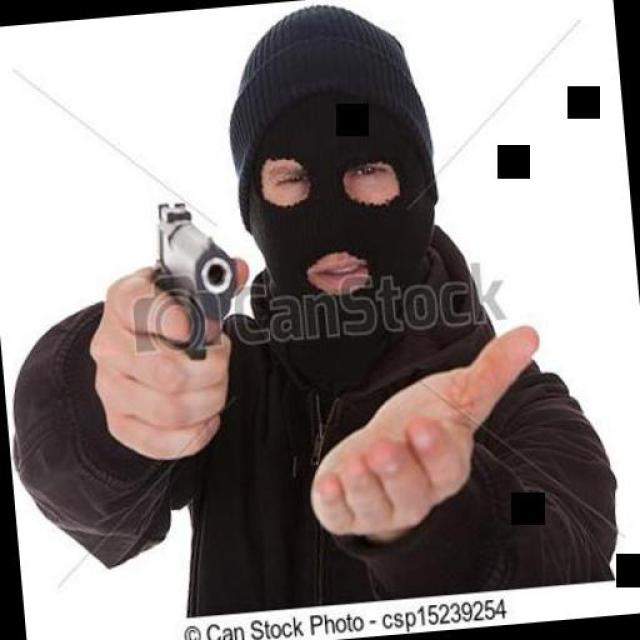gun: (150, 189, 244, 369)
